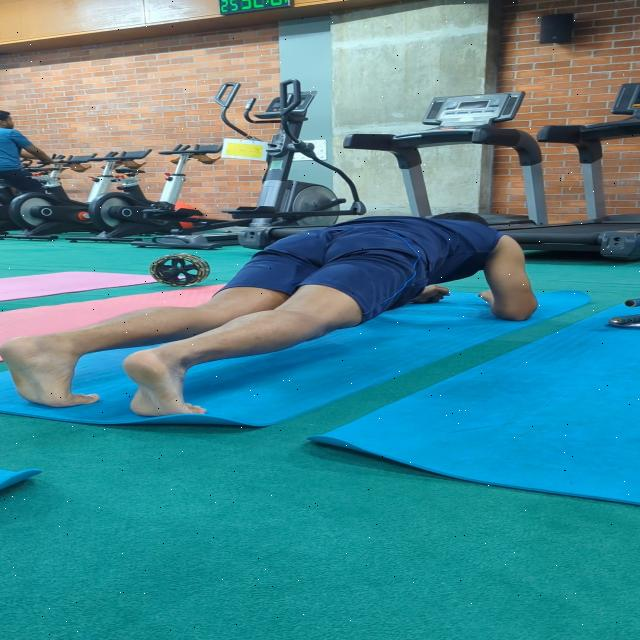Normal_Plunk: (0, 197, 544, 438)
